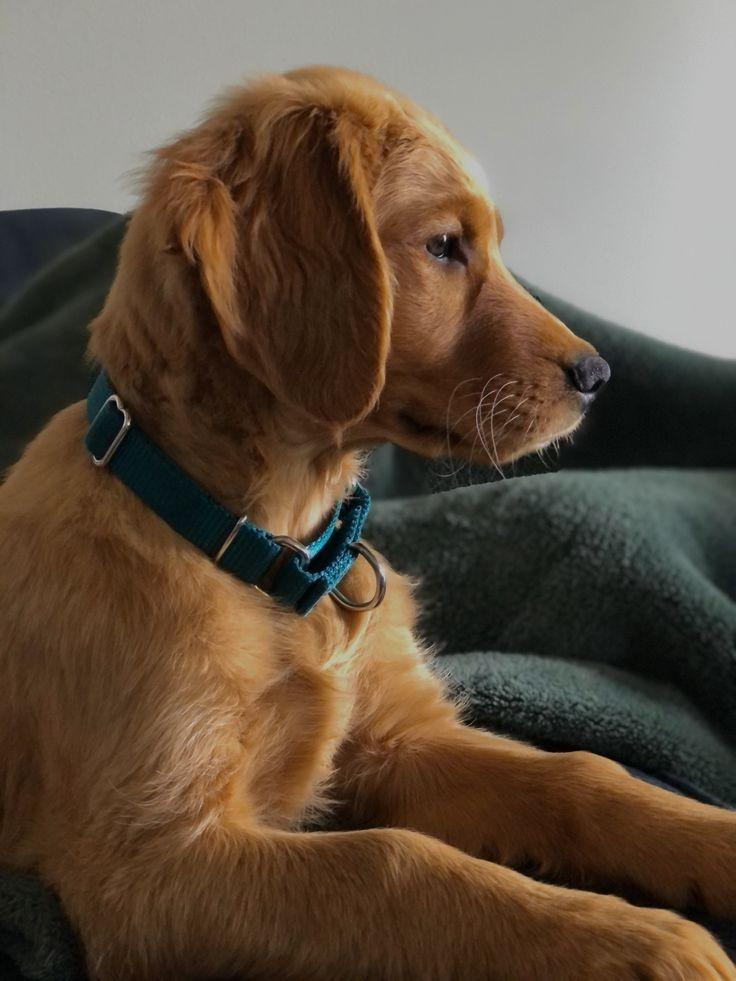puppy-dog: (0, 55, 736, 981)
